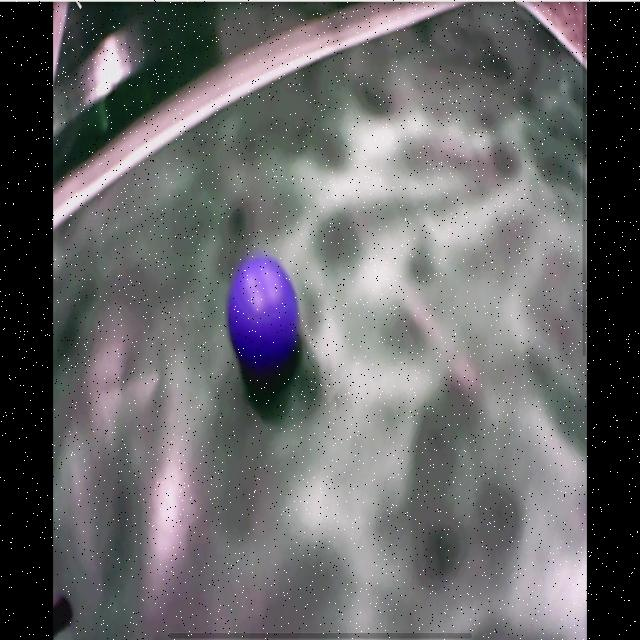ball: (233, 255, 296, 375)
